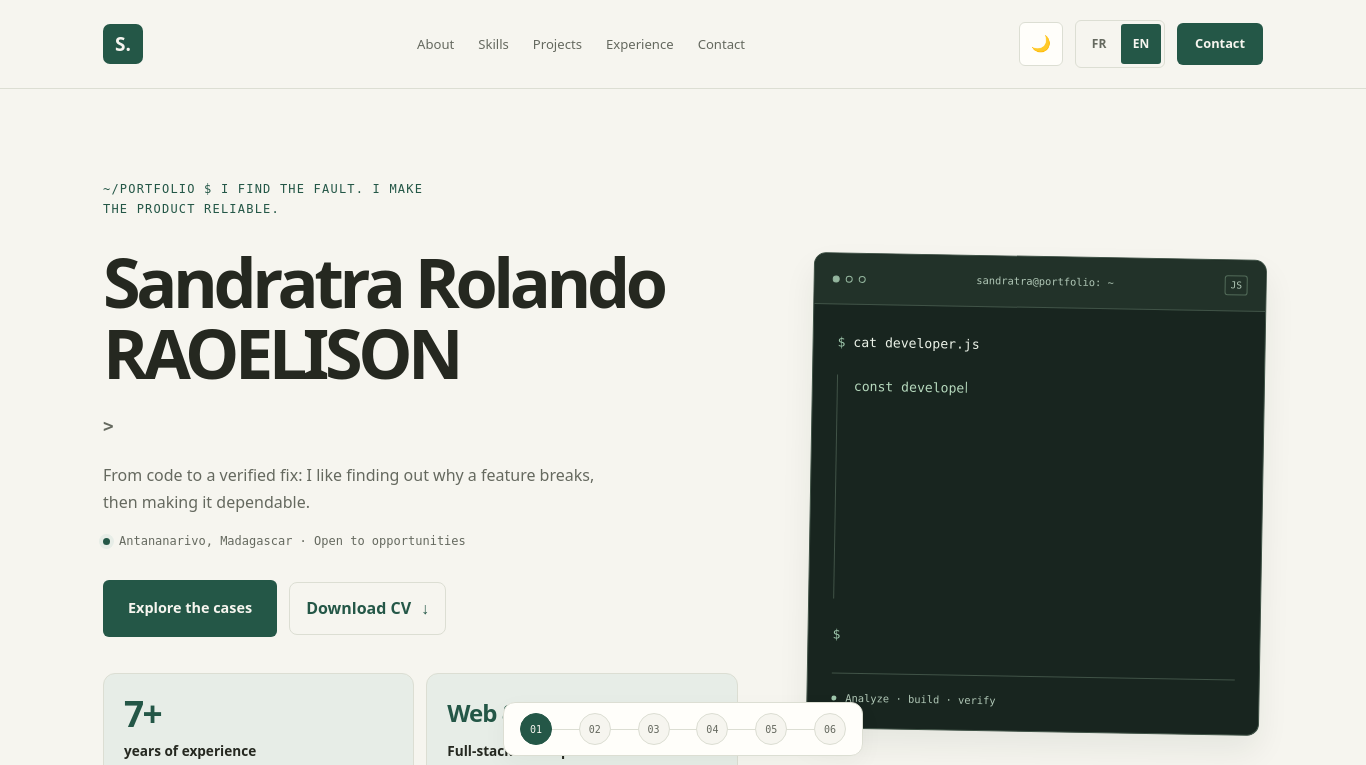
Test: Portfolio experience › navigates to the project cases and shows product links
Click the button "Explore the cases" at (190, 609), box [103,580,277,637]
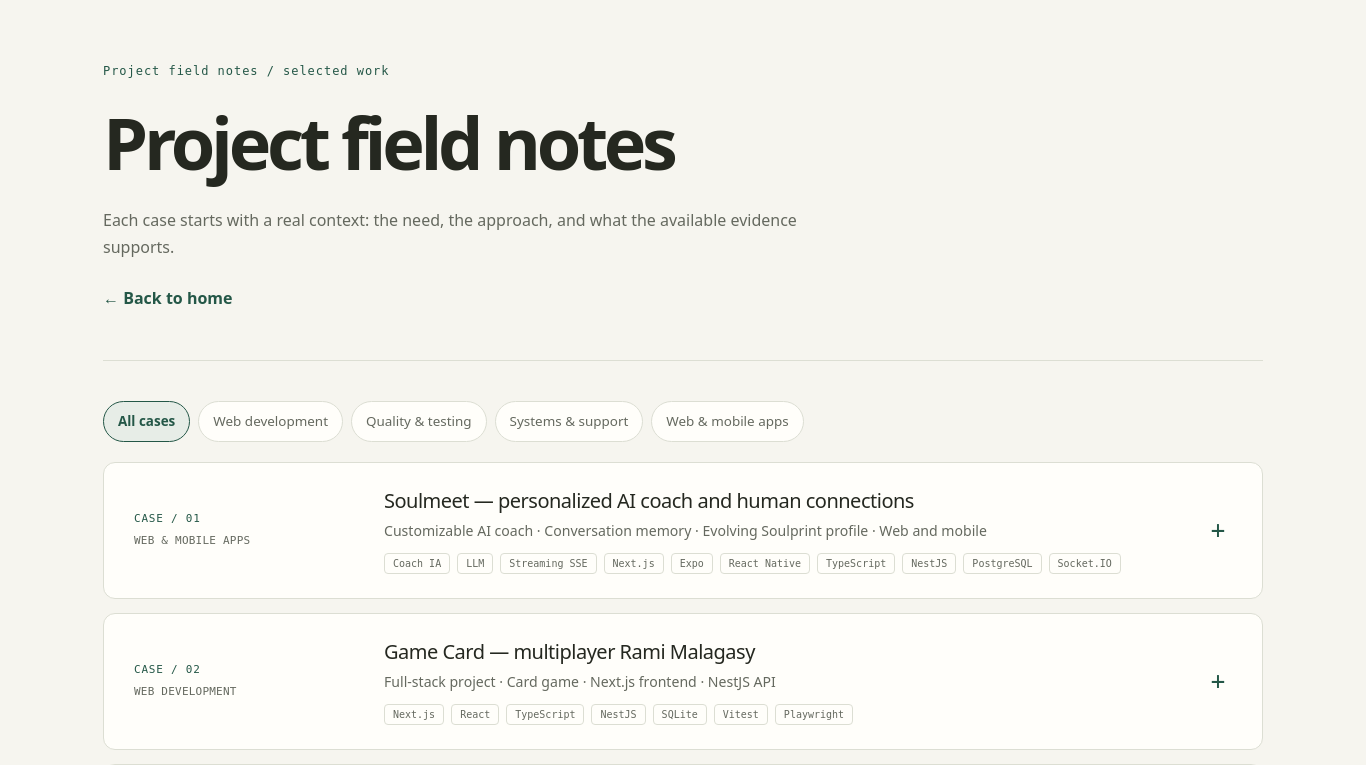
Check: the text "Project field notes" is shown, box [103,64,389,78]
Check: the link "← Back to home" is shown, box [103,287,232,309]
